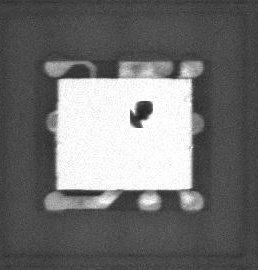DIE_INK: (130, 101, 156, 127)
